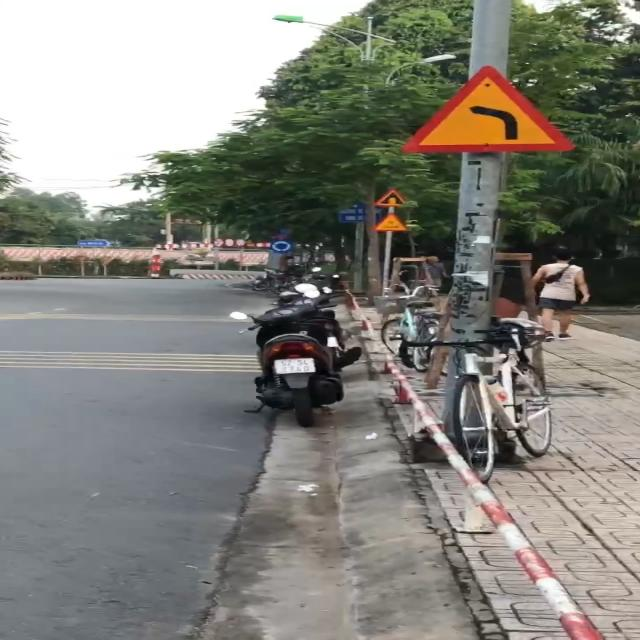Bien bao cho ngoat nguy hiem: (390, 63, 582, 157)
Bien bao noi giao nhau chay theo vong xuyen: (267, 239, 297, 253)
